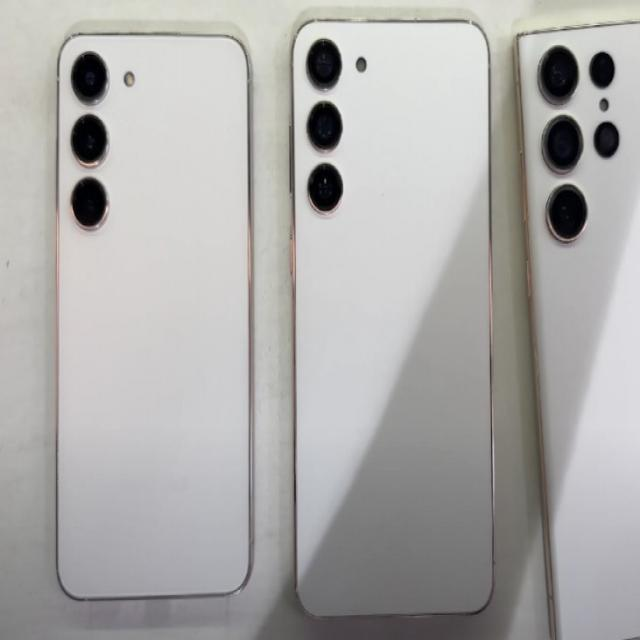phone: (295, 16, 501, 624), (55, 29, 254, 598)
